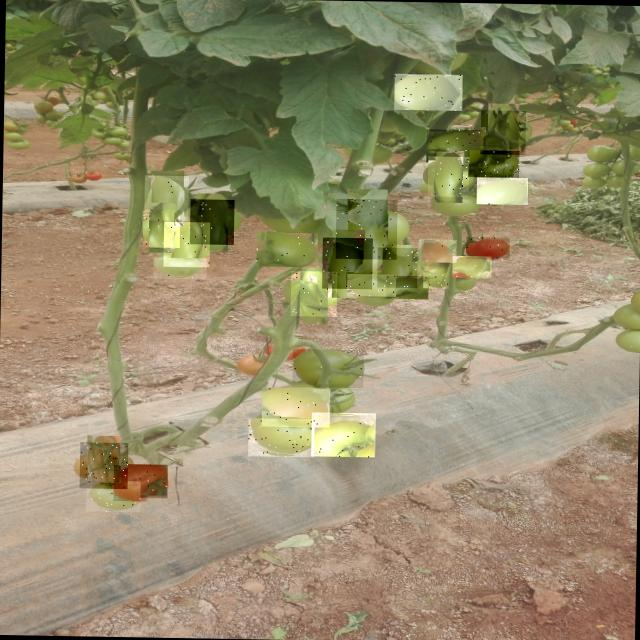Ripe Tomato: (112, 464, 167, 501), (466, 237, 510, 260)
Unripe Tomato: (335, 198, 397, 260), (310, 412, 376, 457), (292, 348, 364, 388), (261, 387, 330, 427), (322, 237, 372, 289), (248, 418, 314, 457), (393, 74, 462, 110), (79, 442, 128, 488), (256, 231, 318, 267), (163, 221, 210, 267), (290, 270, 337, 316), (189, 198, 234, 244), (426, 129, 486, 163), (480, 110, 526, 154), (144, 175, 188, 221), (427, 156, 469, 197), (377, 247, 418, 288), (86, 482, 140, 512), (142, 208, 180, 248), (468, 150, 519, 178), (477, 177, 528, 204), (153, 257, 206, 279), (346, 274, 396, 296), (386, 275, 428, 299), (418, 238, 456, 262), (452, 255, 491, 278), (422, 266, 448, 288)
